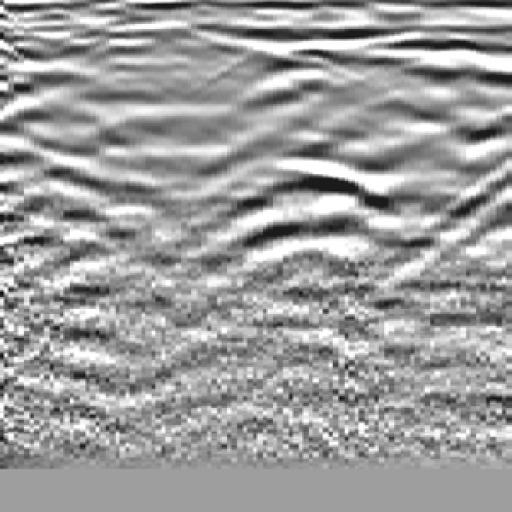metalic: (230, 29, 413, 296)
nonmetalic: (463, 47, 512, 290)
